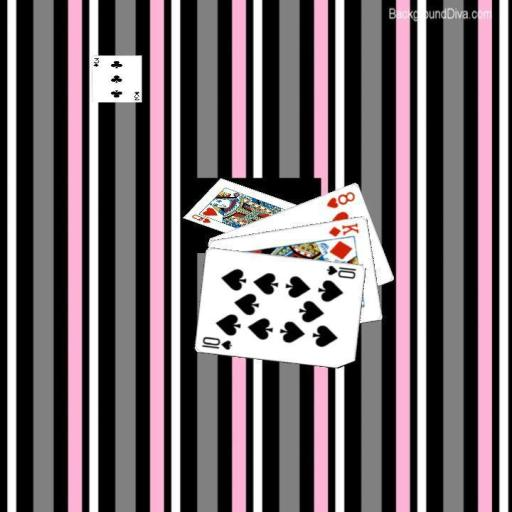card-corner: (323, 188, 357, 210), (325, 220, 361, 238), (199, 334, 234, 352), (324, 262, 358, 280)
